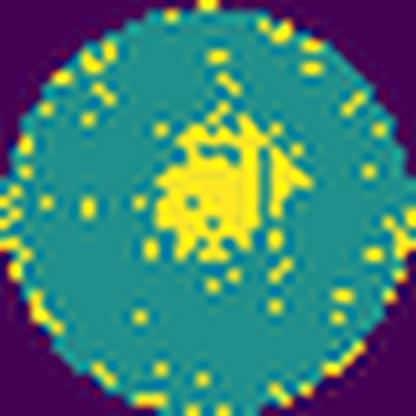Center: (154, 113, 312, 266)
